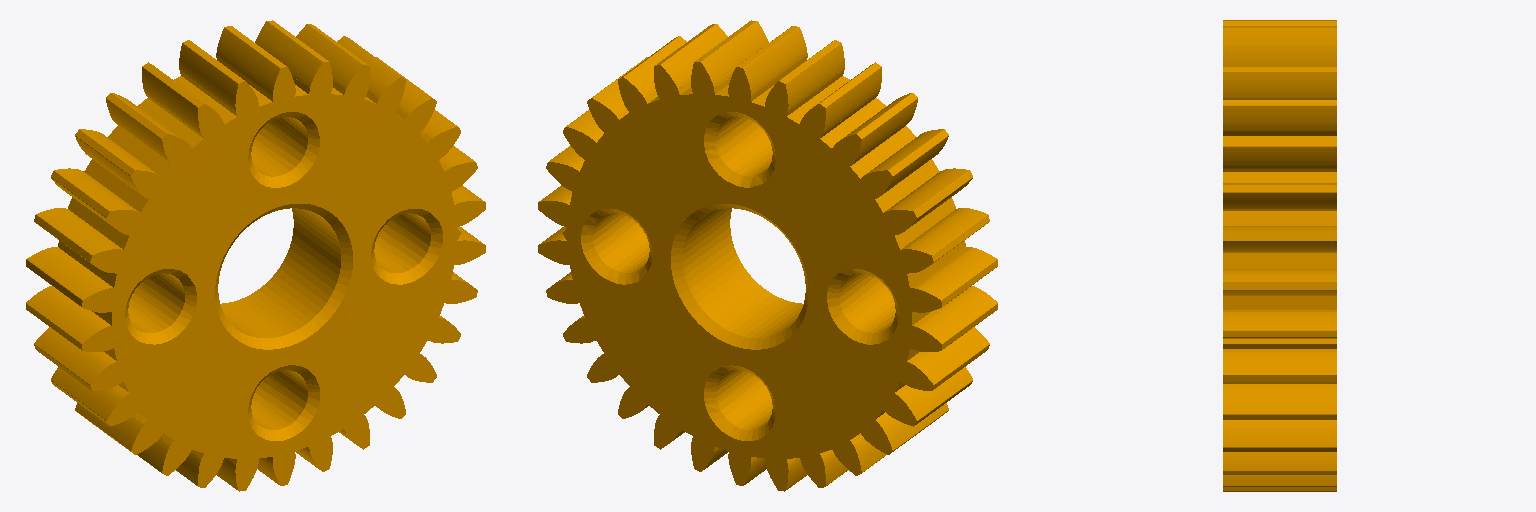
The robot description file, URDF, robot "gear_1_L0.62_T0.61":
<?xml version="1.0" encoding="utf-8"?>
<robot name="gear_1_L0.62_T0.61">
  <link name="gear_1_L0.62_T0.61Link">
    <contact>
      <lateral_friction value="1"/>
    </contact>
    <inertial>
      <origin rpy="0 0 0" xyz="0 0 0"/>
      <mass value="0.0"/>
      <inertia ixx="0" ixy="0" ixz="0" iyy="0" iyz="0" izz="0"/>
    </inertial>
    <visual>
      <origin rpy="0 0 0" xyz="0 0 0"/>
      <geometry>
        <mesh filename="generated_stl/gear/gear_1/gear_1_L0.62_T0.61/gear_1_L0.62_T0.61.stl" scale="0.01 0.01 0.01"/>
      </geometry>
    </visual>
    <collision>
      <origin rpy="0 0 0" xyz="0 0 0"/>
      <geometry>
        <mesh filename="generated_stl/gear/gear_1/gear_1_L0.62_T0.61/gear_1_L0.62_T0.61.stl" scale="0.01 0.01 0.01"/>
      </geometry>
    </collision>
  </link>
</robot>

--- Facts derived from the render (not from the file) ---
The picture shows the robot from 3 angles, left to right: view 1: azimuth 30°, elevation 25°; view 2: azimuth 150°, elevation 25°; view 3: azimuth 270°, elevation 25°; orthographic projection.
Robot: gear_1_L0.62_T0.61 — 1 links, 0 joints (none); root link gear_1_L0.62_T0.61Link; default pose: every joint at zero.
Links seen in each view (by area): view 1: gear_1_L0.62_T0.61Link; view 2: gear_1_L0.62_T0.61Link; view 3: gear_1_L0.62_T0.61Link.
Boxes of the visible links, box(x1,y1,x2,y2) form: gear_1_L0.62_T0.61Link: box(26, 20, 485, 491); gear_1_L0.62_T0.61Link: box(538, 20, 997, 491); gear_1_L0.62_T0.61Link: box(1223, 20, 1336, 491).
Bounding box of the posed robot: 0.0309 × 0.0075 × 0.0306 m (x, y, z).
Meshes: 1 distinct files referenced, 1 mesh visuals loaded (1 binary STL).